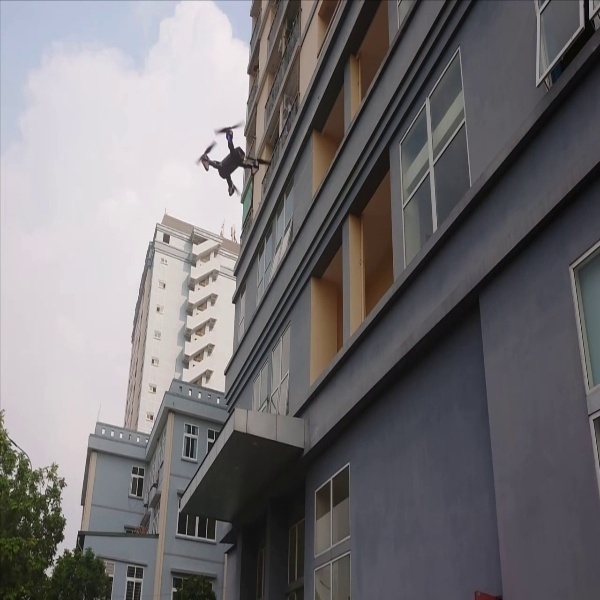drone: (186, 110, 276, 208)
